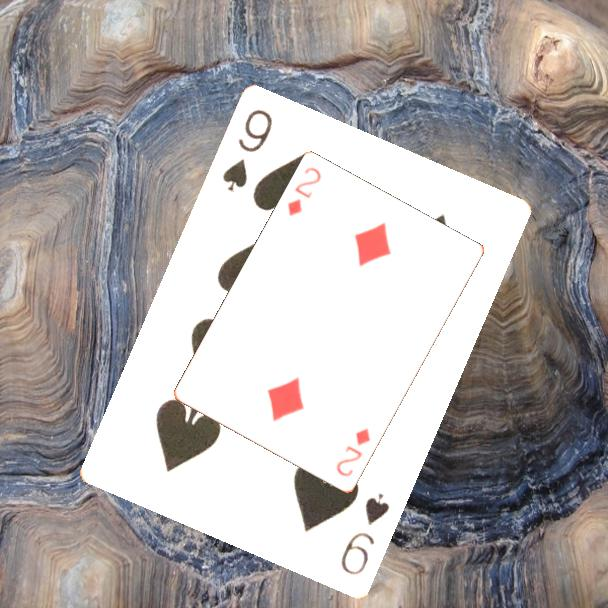d02: (333, 424, 373, 480), (284, 164, 324, 220)
s09: (219, 106, 276, 195), (337, 490, 393, 579)
